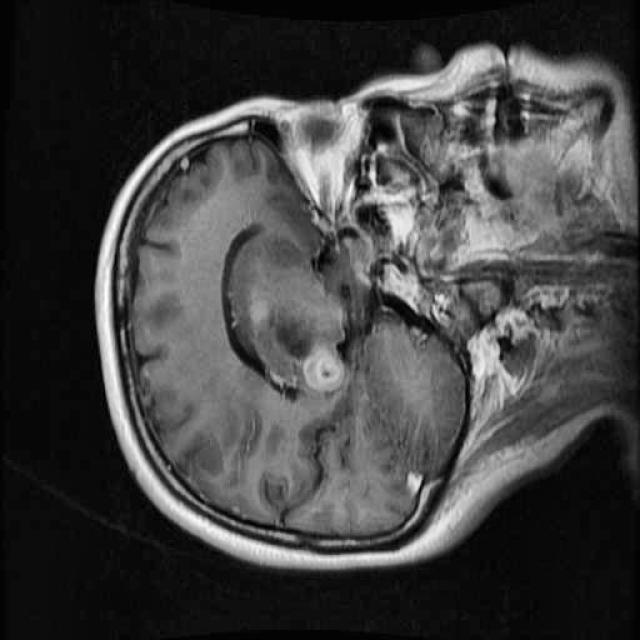Tumor: (284, 327, 364, 418)
